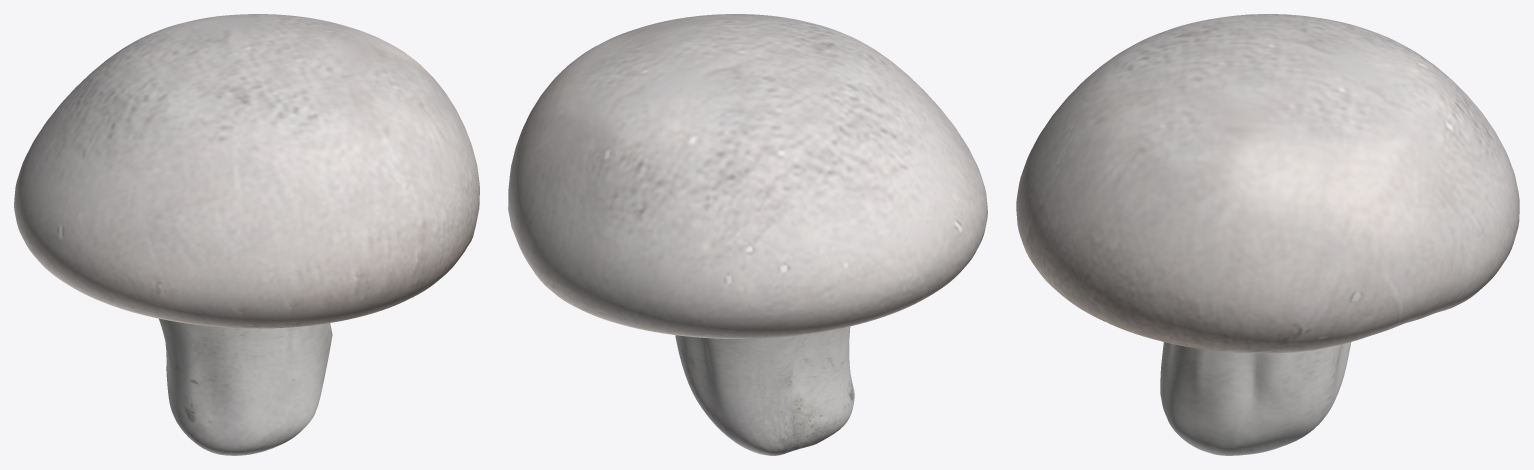
File: SENE_15.fbx
3 views of the same model, side by side, from view 1: azimuth 30°, elevation 25°; view 2: azimuth 150°, elevation 25°; view 3: azimuth 270°, elevation 25° (orthographic). The views are drawn at different scales.
Parts seen in each view (by area): view 1: SENE_15; view 2: SENE_15; view 3: SENE_15.
Boxes of the visible parts, x1=… form: SENE_15: x1=14, y1=14, x2=479, y2=455; SENE_15: x1=508, y1=14, x2=987, y2=455; SENE_15: x1=1016, y1=14, x2=1519, y2=455.
Bounding box in the file's own units: 46.14 × 41.8 × 45.9.
Materials: 1 (1 with a texture image).
